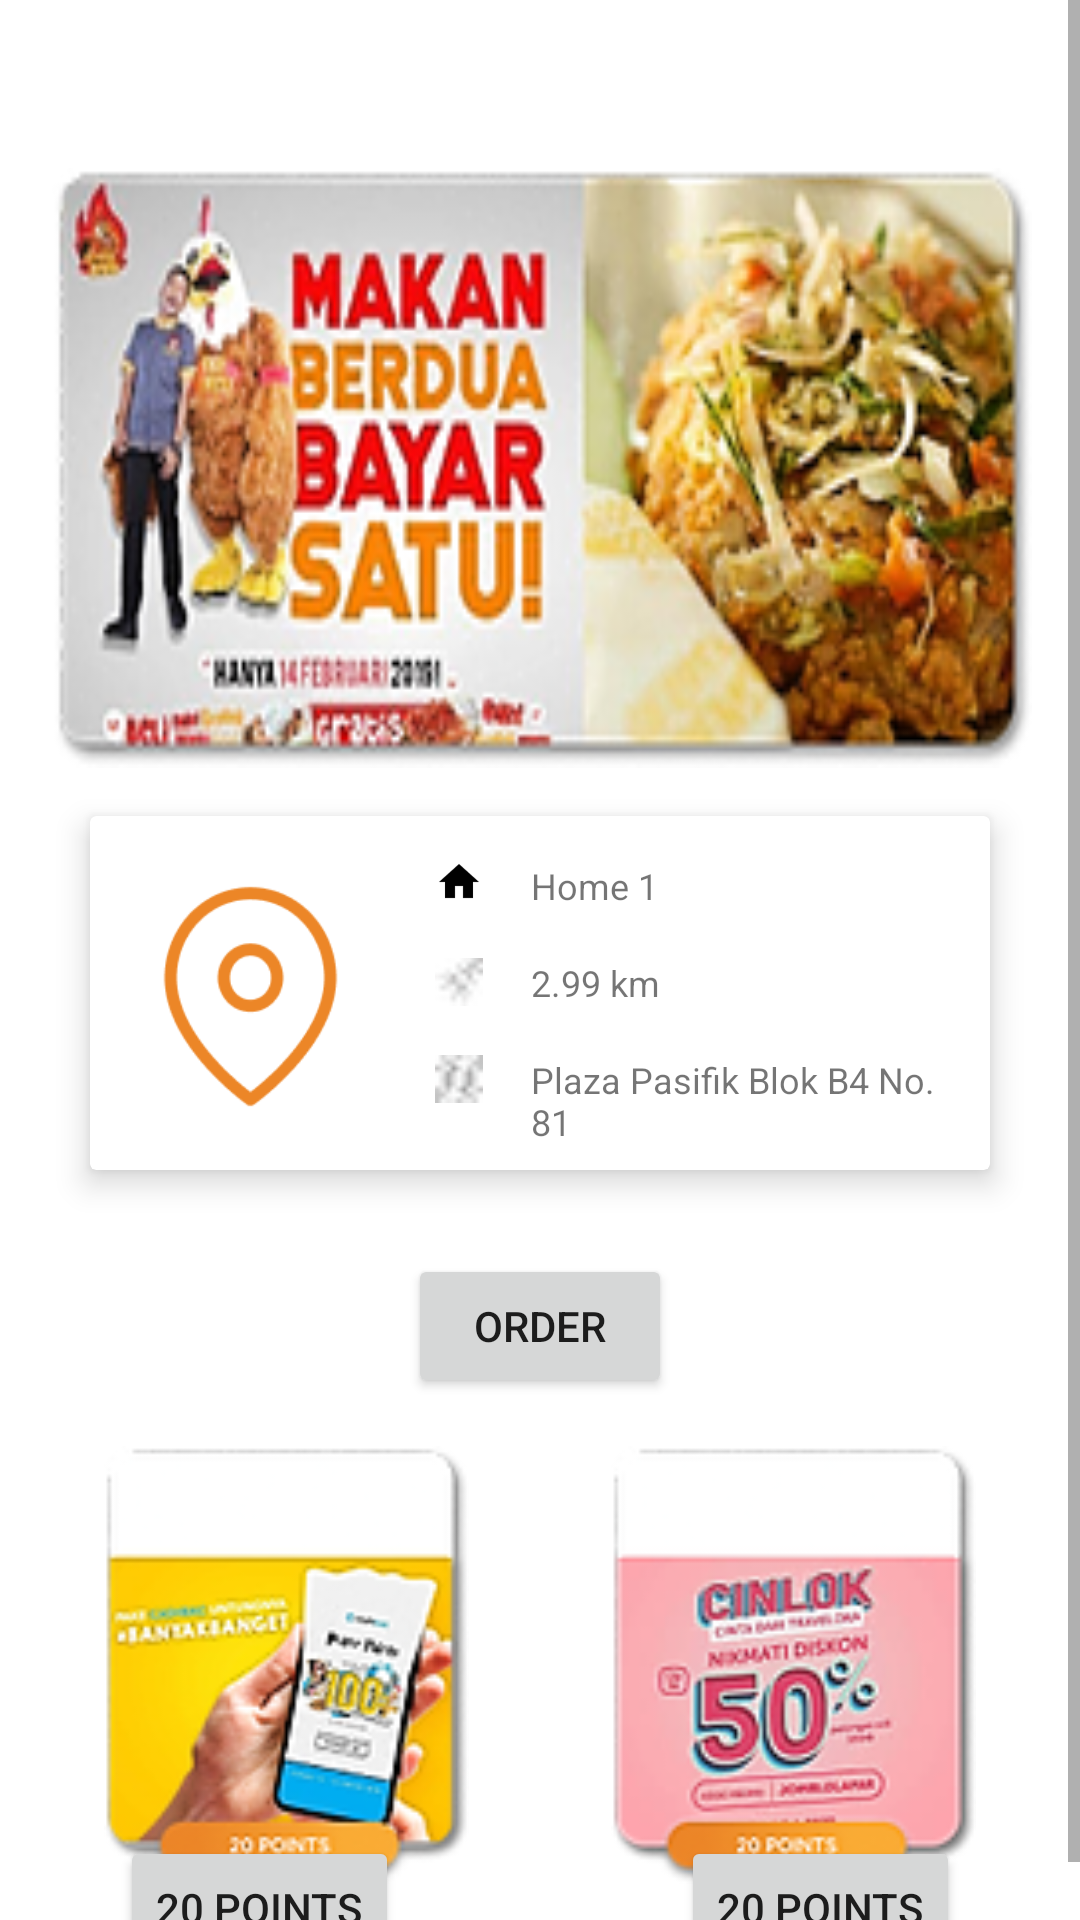

Icons on this 1080 x 1920 Android screen, each with its box as (x1, y1, x2, y2):
map pin: (163, 886, 338, 1107)
